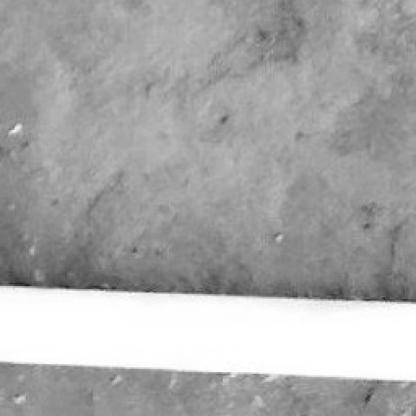PVC: (4, 288, 414, 384)
